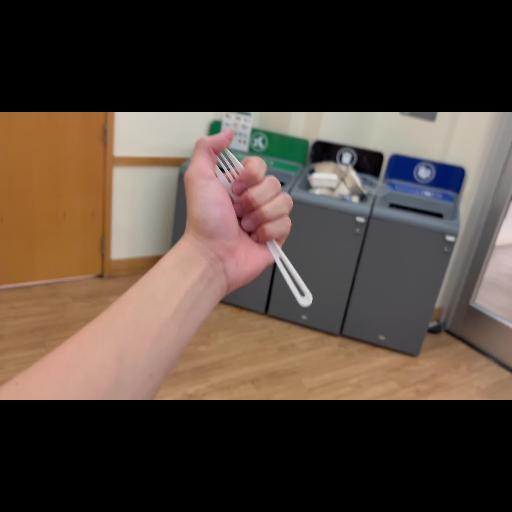utensil: (208, 136, 340, 336)
